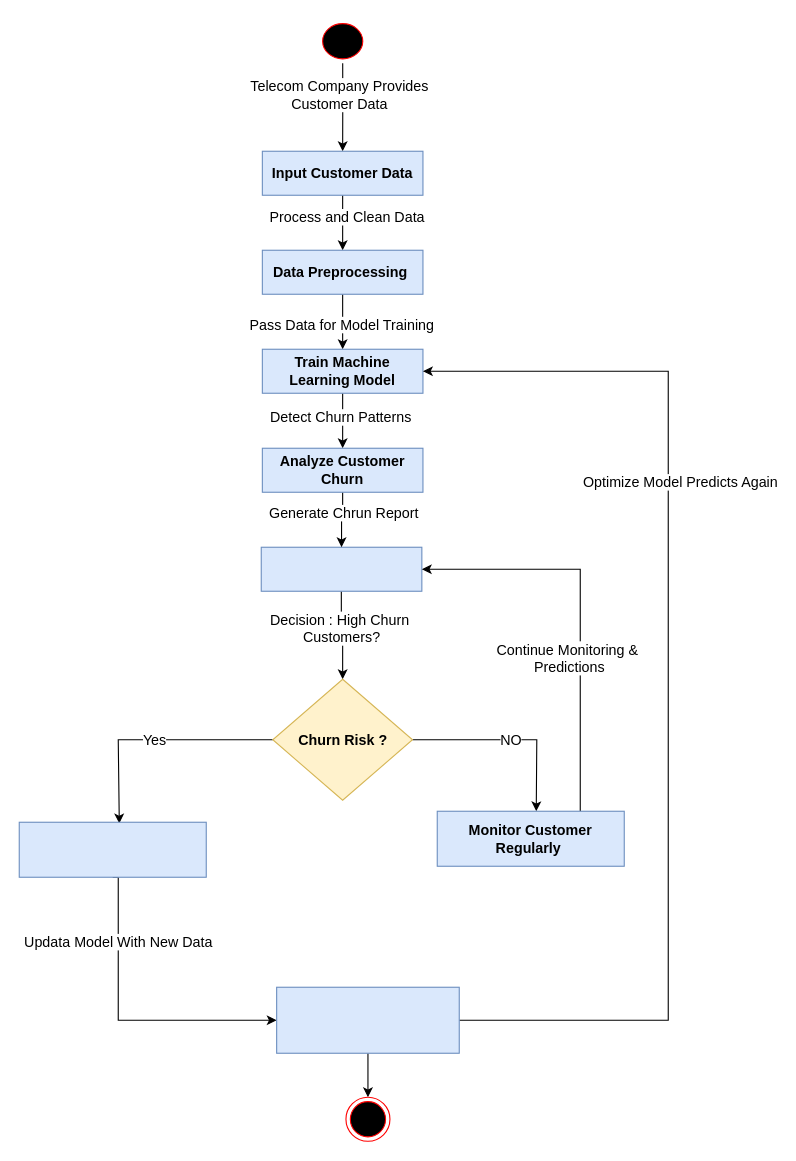
Image size: 796x1161. Some labels were removed from this diagram. Each missing label, with the centre of its shape:
"Improve Dataset & Re-Train Model" goes at point 367,1019.
"Take Action on High Churn Customers" goes at point 112,849.
"View Churn Prediction Report" goes at point 341,568.
